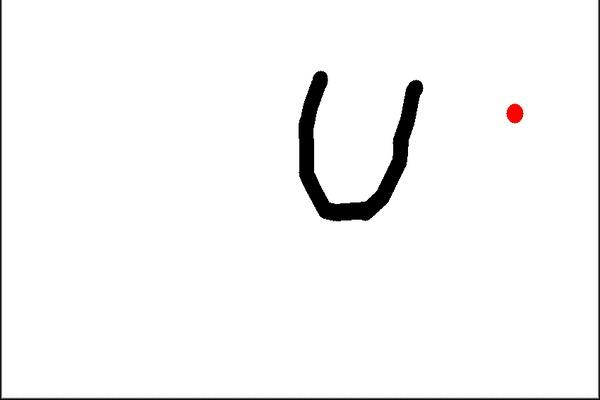U: (293, 65, 421, 229)
